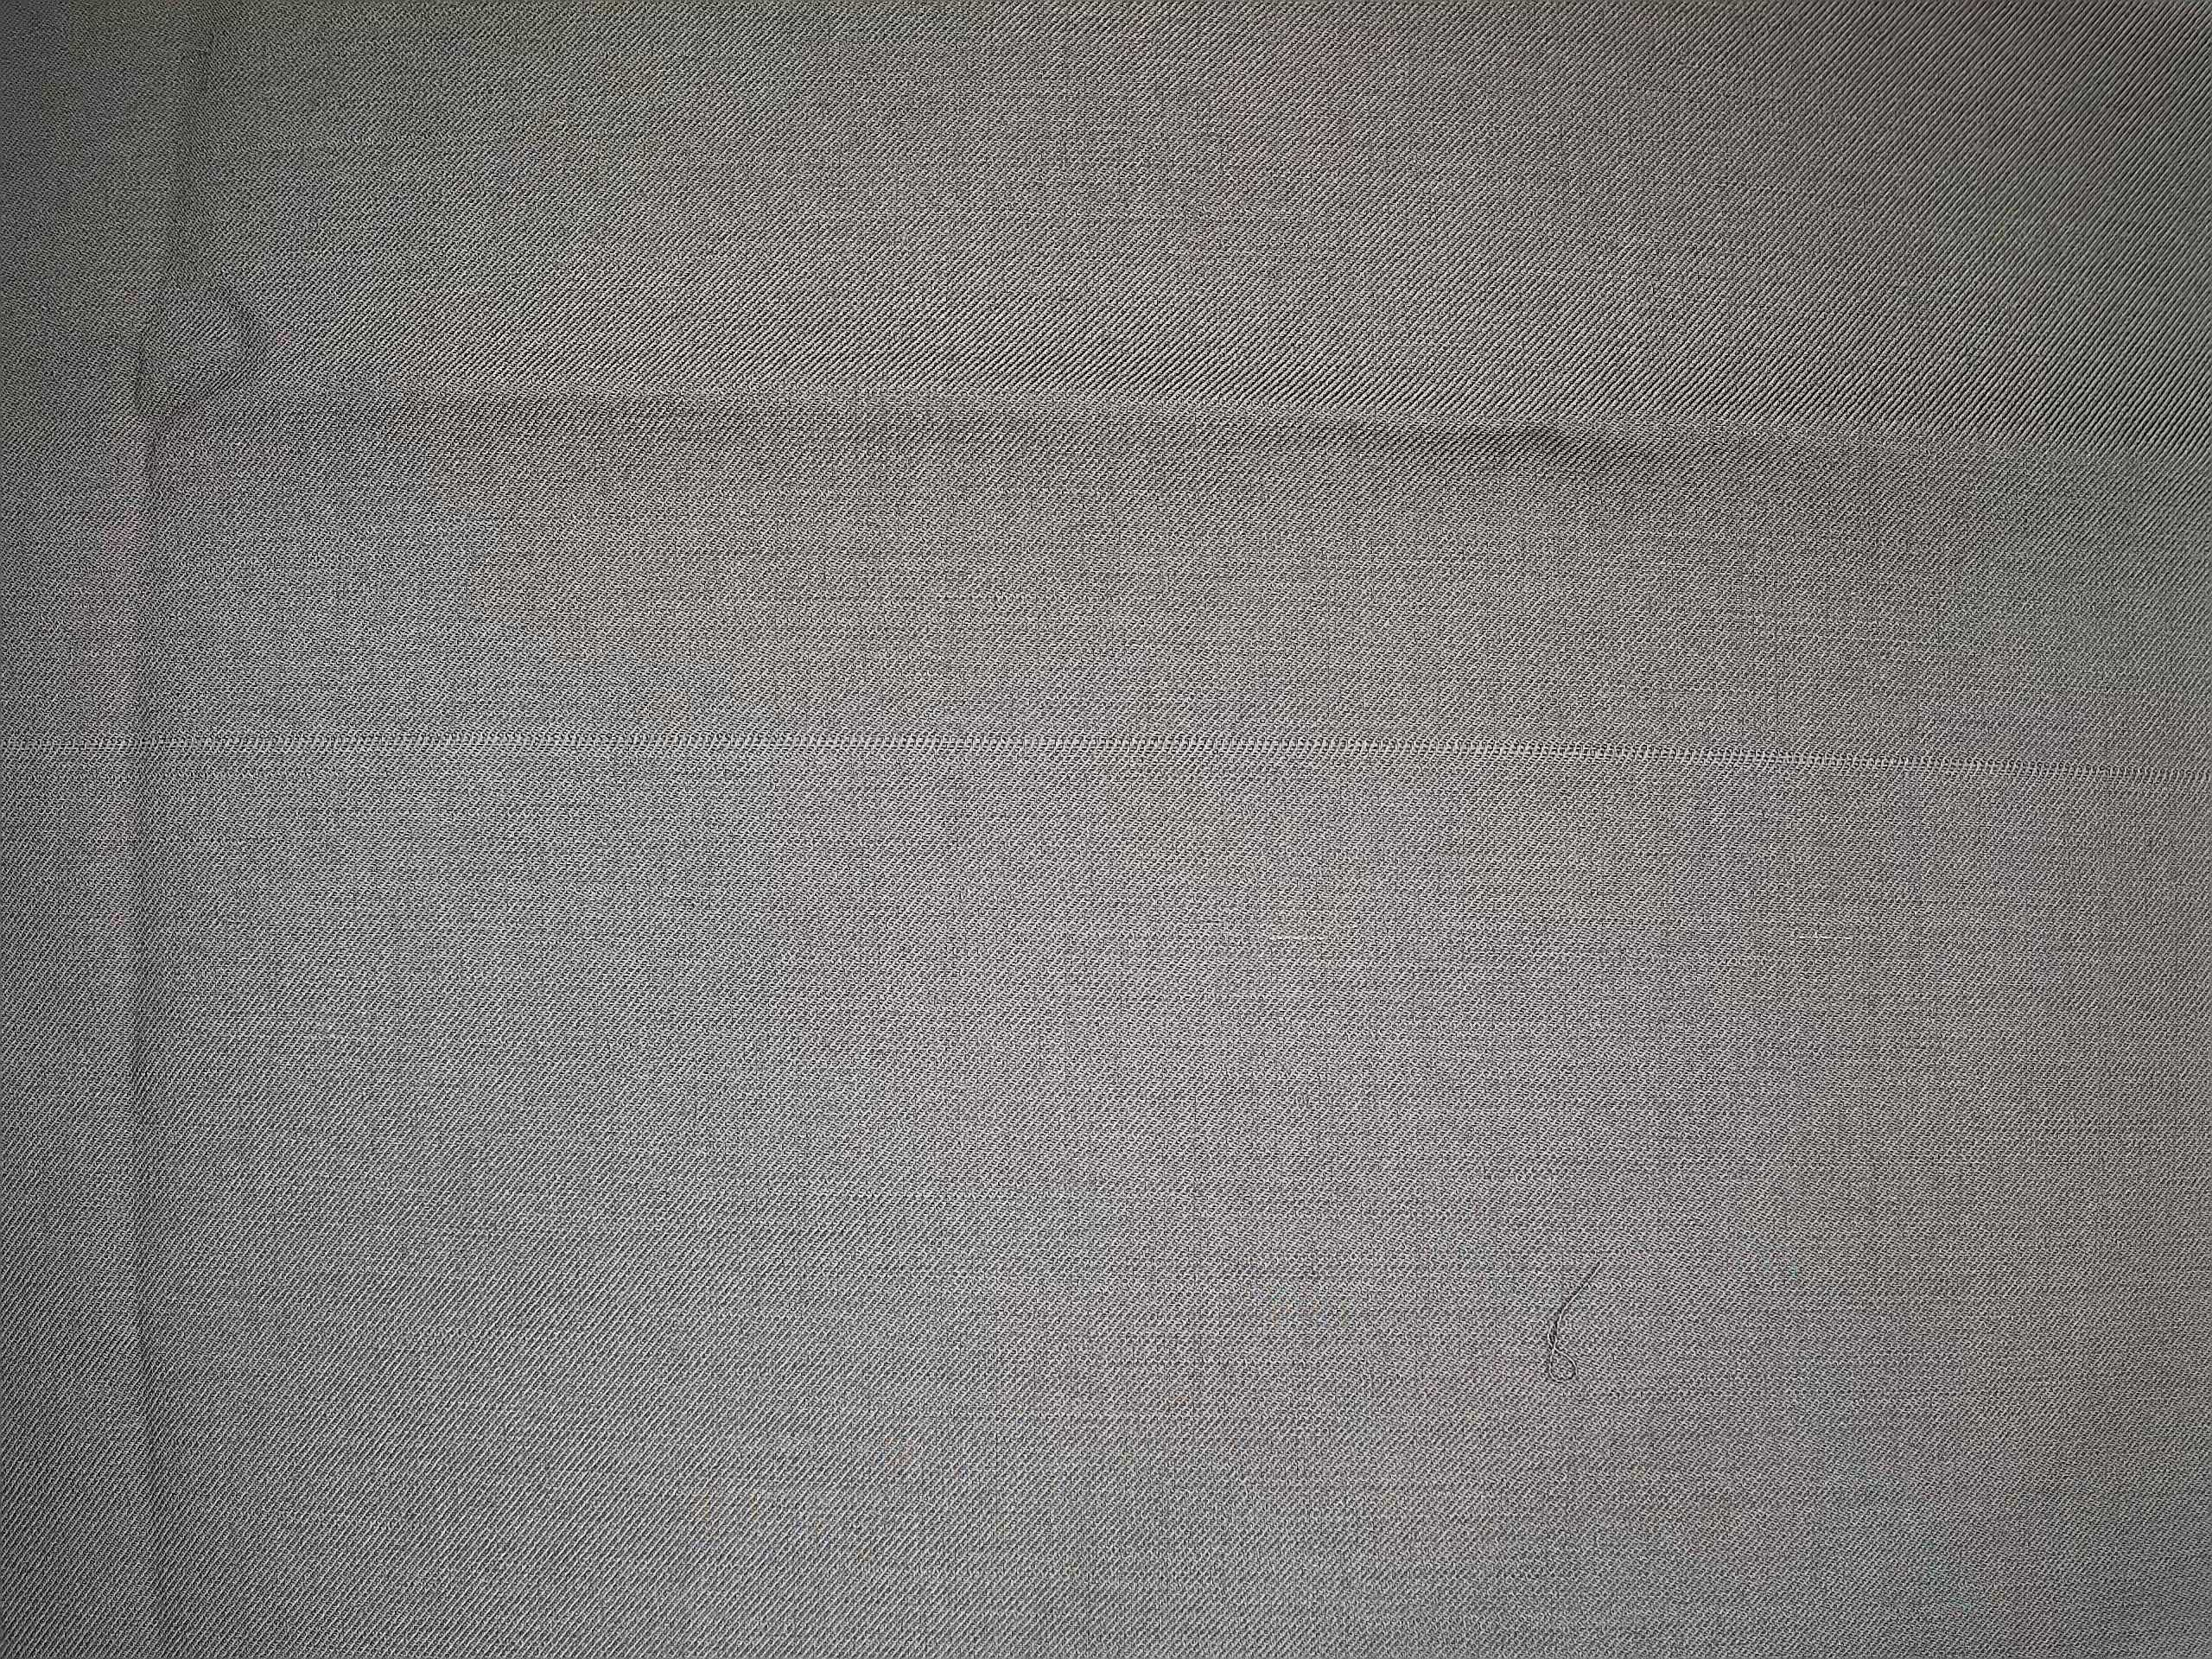others: (24, 704, 2174, 807)
